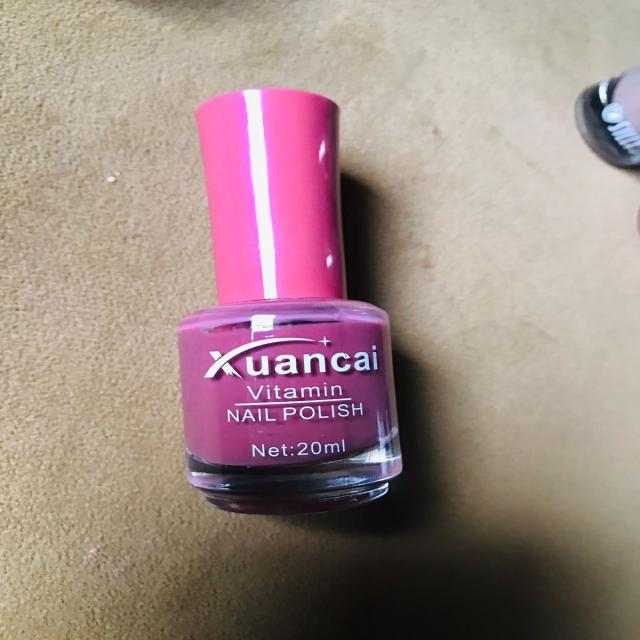nail polish: (155, 72, 439, 537)
